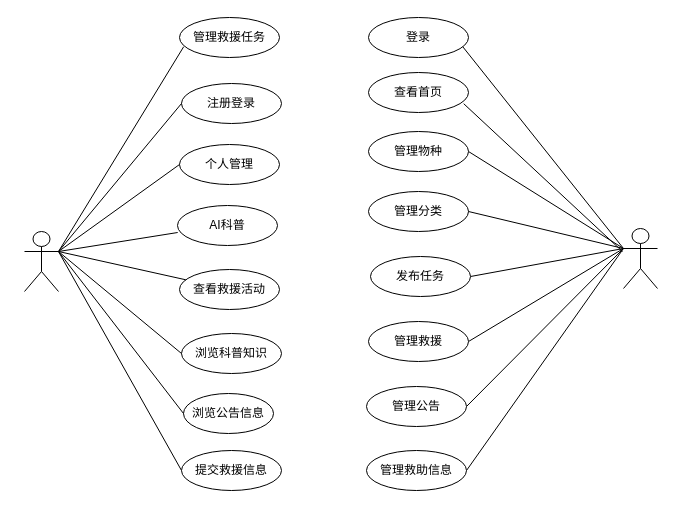
Image size: 675x508. Some labels were removed from this diagram. Each missing label, with the centre of its shape:
"普通用户" belongs at (41,261).
"管理员" belongs at (640,258).
